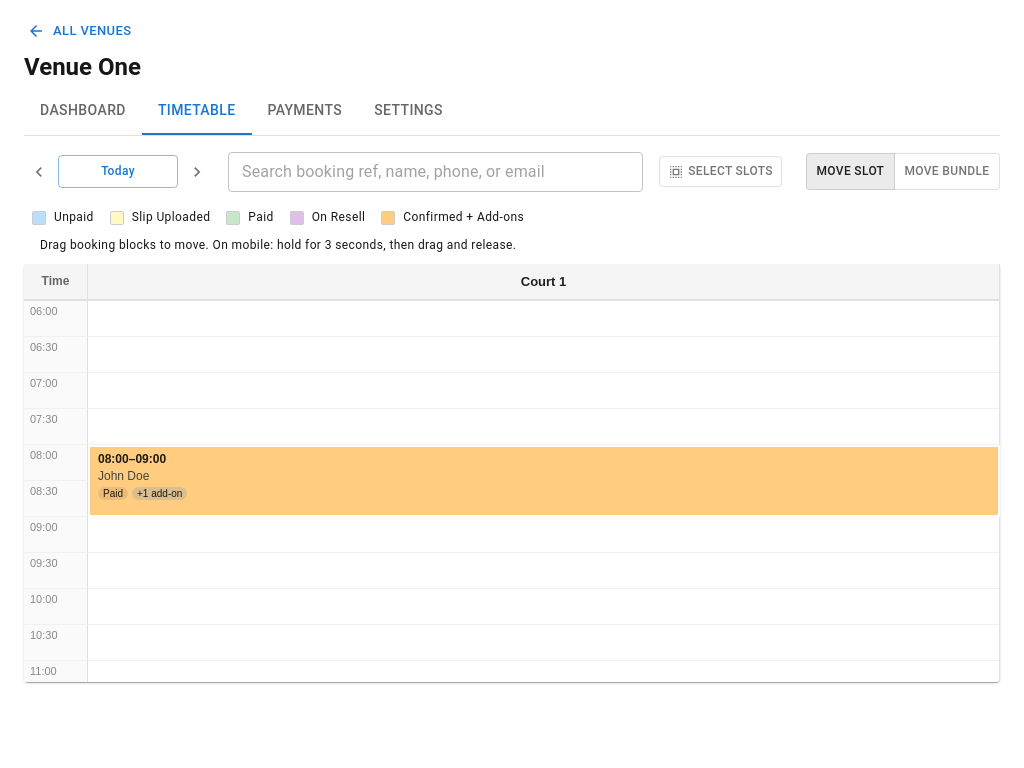
VenueTimetable add-ons display › shows add-on badge in cell and add-on details in booking dialog
The width and height of the screenshot is (1024, 768).
Expected: the text "+1 add-on" is shown, [132, 487, 187, 500]
Click the text "08:00–09:00": [132, 459] box [98, 452, 166, 466]
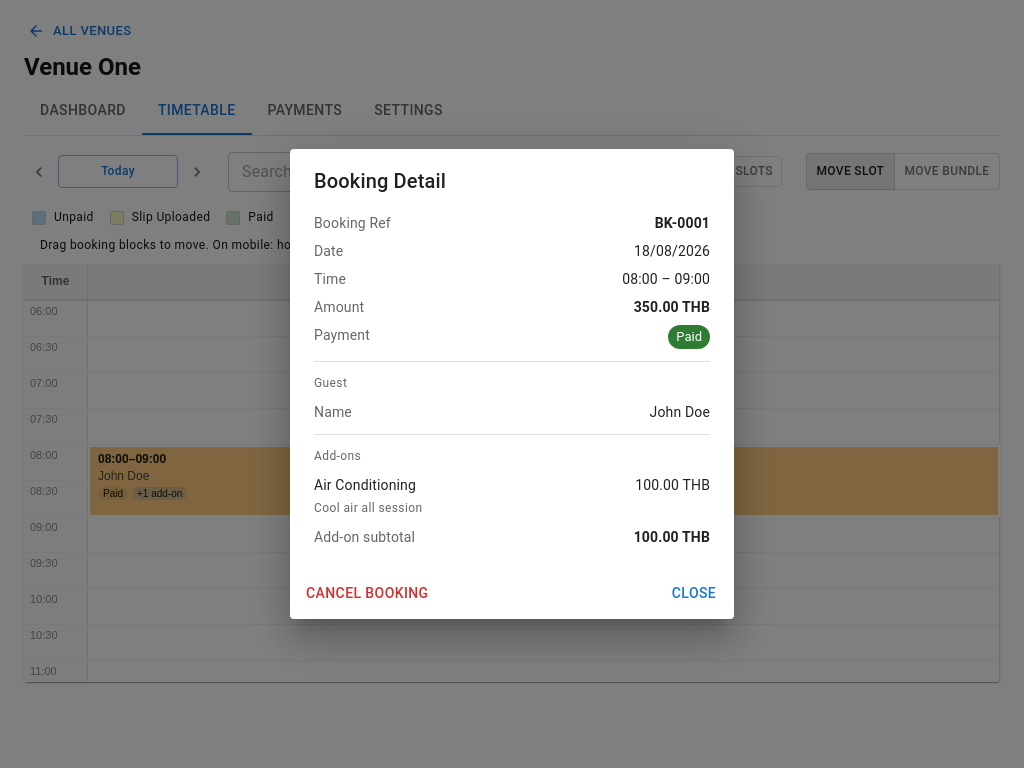
Expected: the text "Add-ons" is shown, [314, 449, 361, 463]
Expected: the text "Air Conditioning" is shown, [314, 475, 423, 495]
Expected: the text "Cool air all session" is shown, [314, 501, 423, 515]
